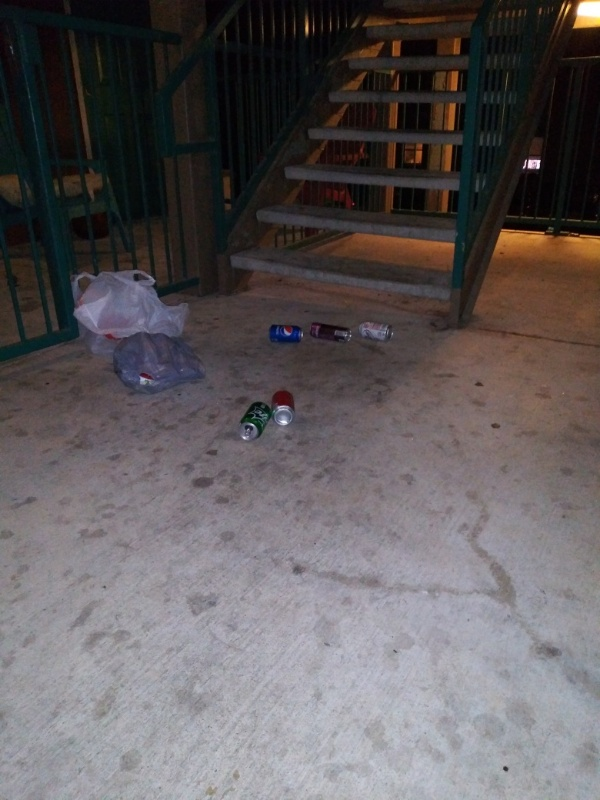can: (238, 399, 271, 445), (303, 316, 354, 342), (268, 386, 297, 429), (357, 316, 398, 343), (268, 321, 306, 345)
